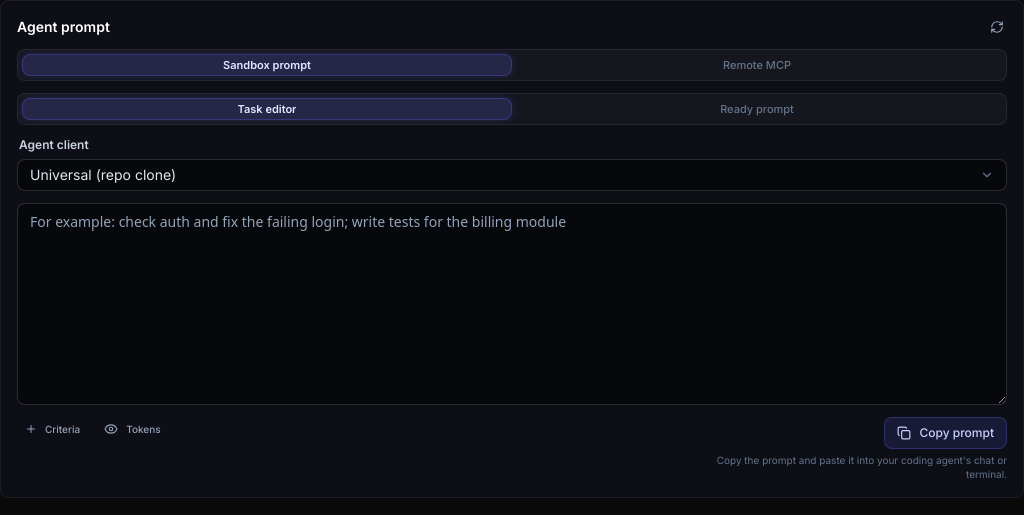
DevboxPrompt remote MCP mode › shows the sandbox editor by default and switches to the remote panel
This screenshot has width=1024, height=515.
Expected: the button with test id "devbox-prompt-copy" is shown, [884,417,1007,449]
Expected: the text box with test id "devbox-prompt-task" is shown, [18,204,1006,404]
Click the button "Remote MCP" at (757, 65), box [512,53,1002,77]
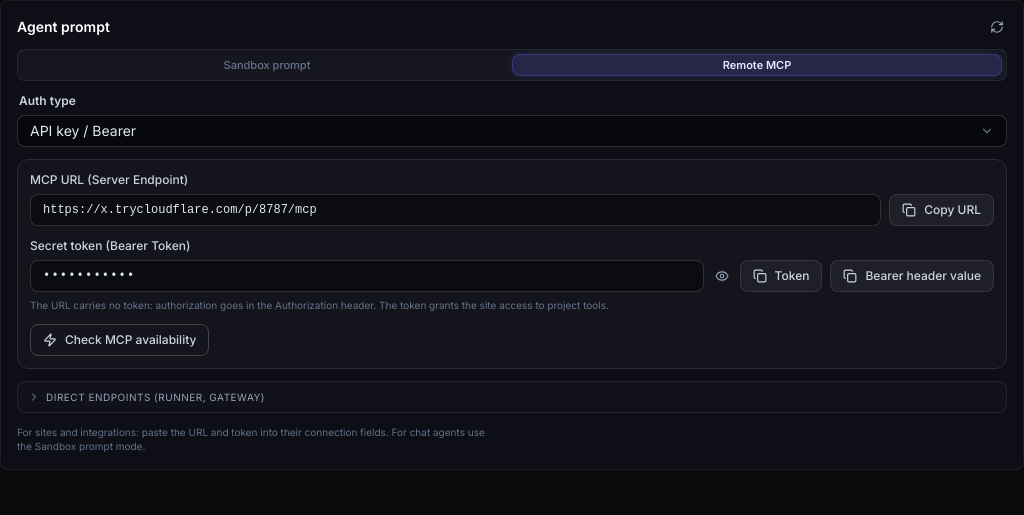
Expected: the element with test id "devbox-remote-panel" is shown
Expected: the field with test id "devbox-remote-url" holds "https://x.trycloudflare.com/p/8787/mcp", [31,194,880,226]
Expected: the text box with test id "devbox-prompt-task" is gone
Click the button "Sandbox prompt" at (267, 65), box [22,53,512,77]
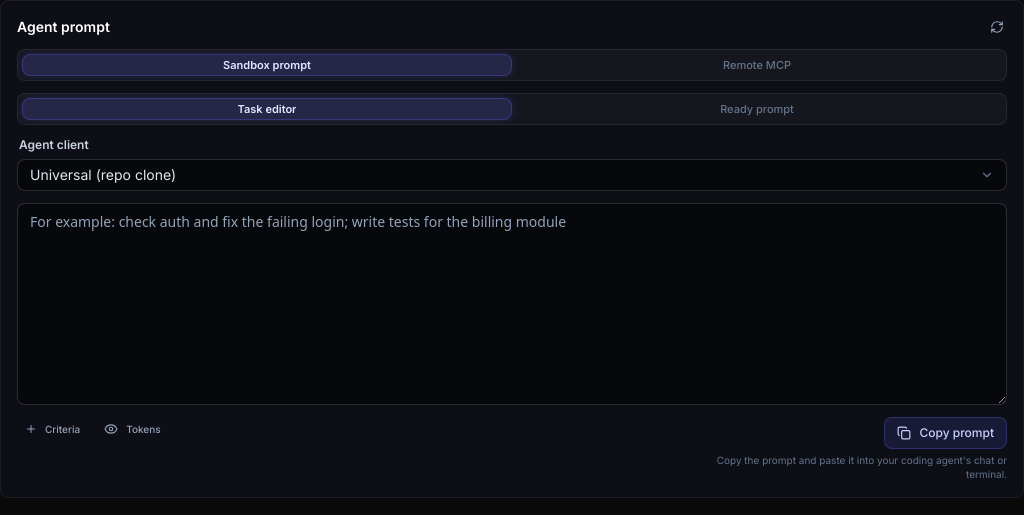
Expected: the text box with test id "devbox-prompt-task" is shown, [18,204,1006,404]
